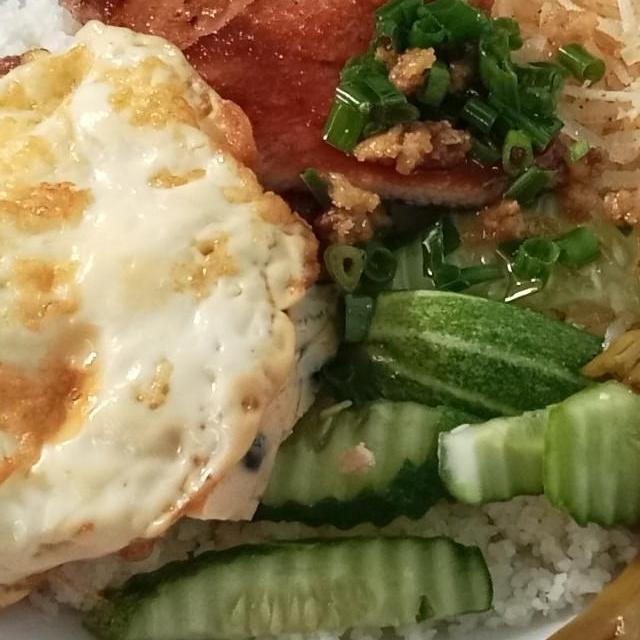bi: (360, 0, 640, 276)
com: (25, 490, 640, 640), (0, 0, 98, 83)
com suon bi trung: (0, 0, 640, 640)
dua chua: (482, 219, 640, 640)
suon: (37, 0, 595, 216)
trung: (0, 14, 325, 636)
